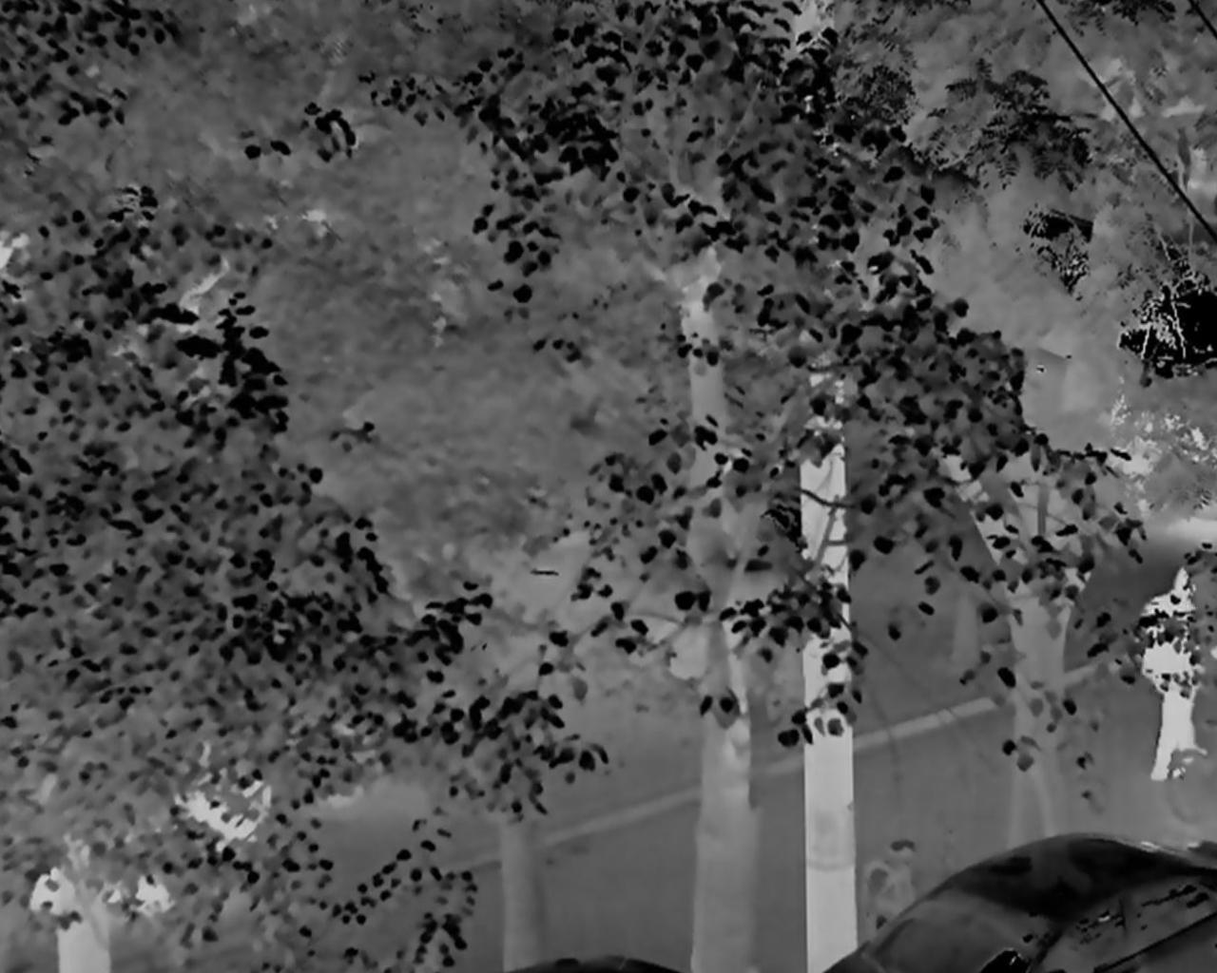person: (1144, 564, 1212, 790)
